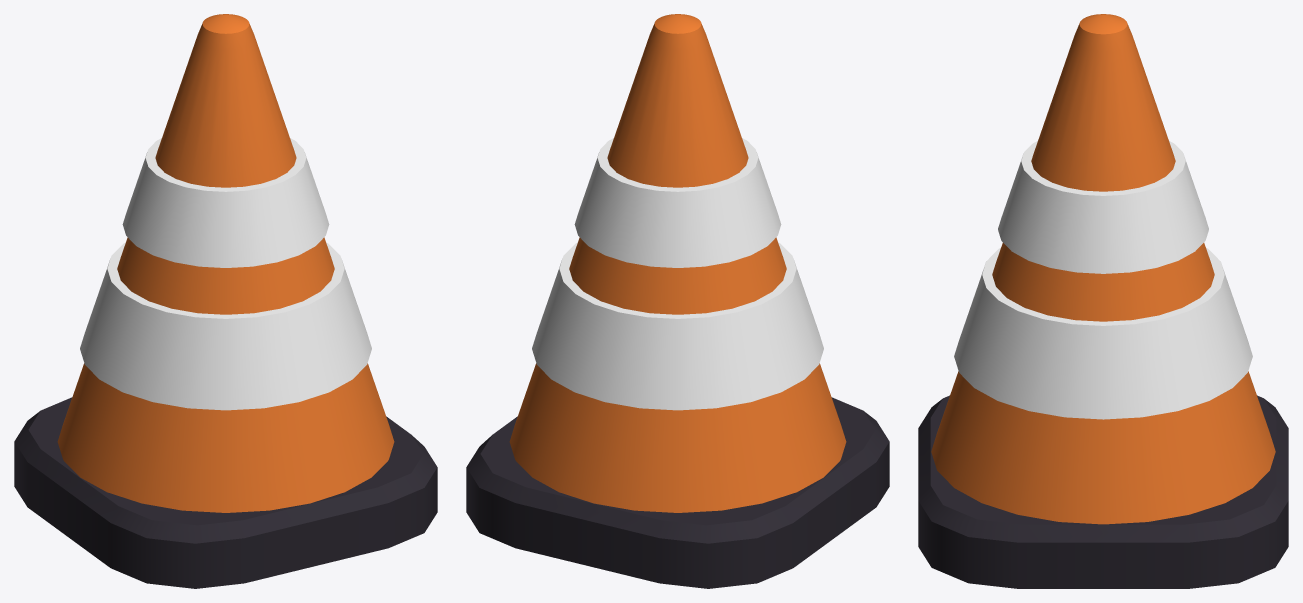
The model's file is hat_traffic_cone.glb.
3 views of the same model, side by side, from view 1: azimuth 30°, elevation 25°; view 2: azimuth 150°, elevation 25°; view 3: azimuth 270°, elevation 25° (orthographic). The views are drawn at different scales.
Visible parts, largest first — view 1: Hat; view 2: Hat; view 3: Hat.
Part boxes in pixels (x1,y1,x2,y2): Hat: (14, 14, 437, 588); Hat: (466, 14, 889, 588); Hat: (918, 14, 1288, 588).
Size of the model in its own units: 0.37 by 0.546 by 0.37.
